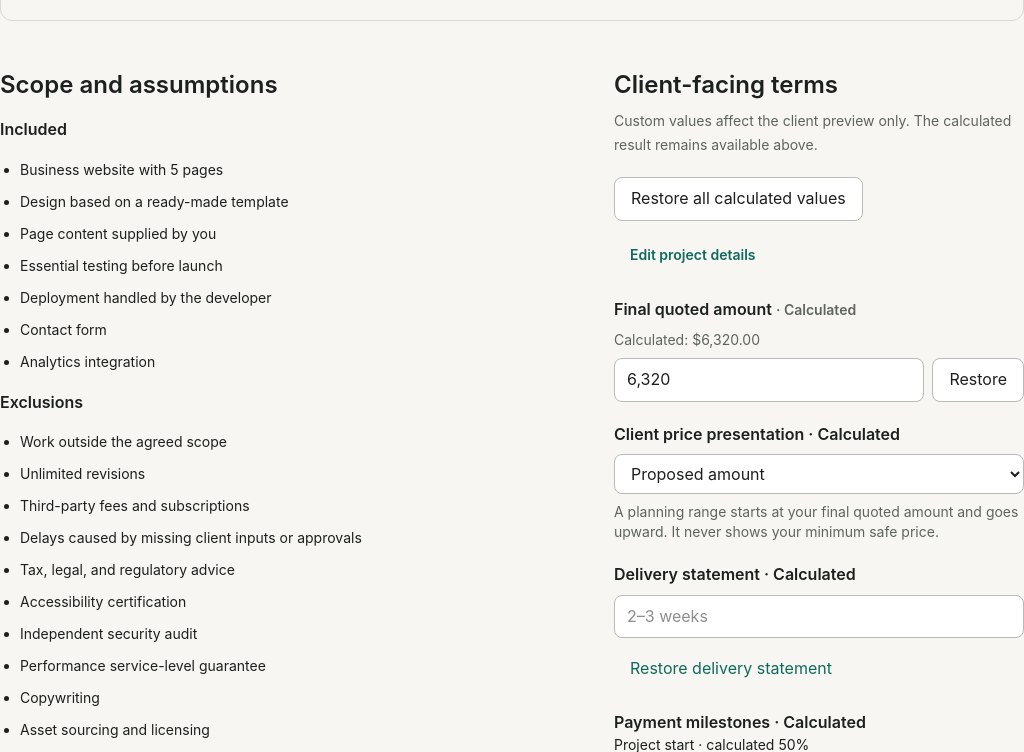
Test case: ResultWorkspace › marks and resets a below-floor quote without blocking the client preview
(page scrolled)
Replace the text in the field labelled "Final quoted amount · Calculated" with "0" at (769, 380), box [614, 358, 924, 402]
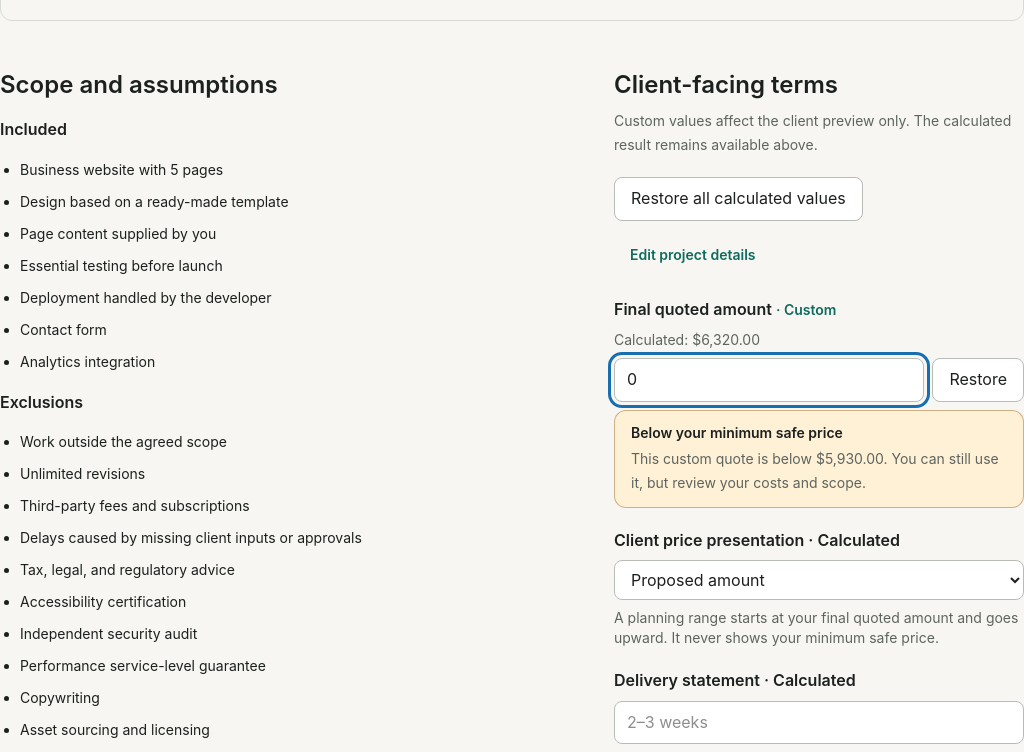
Now the text "Below your minimum safe price" is shown, box [631, 424, 843, 440]
Click the button "Restore".
click(978, 380)  # box [932, 358, 1023, 402]
(page scrolled)
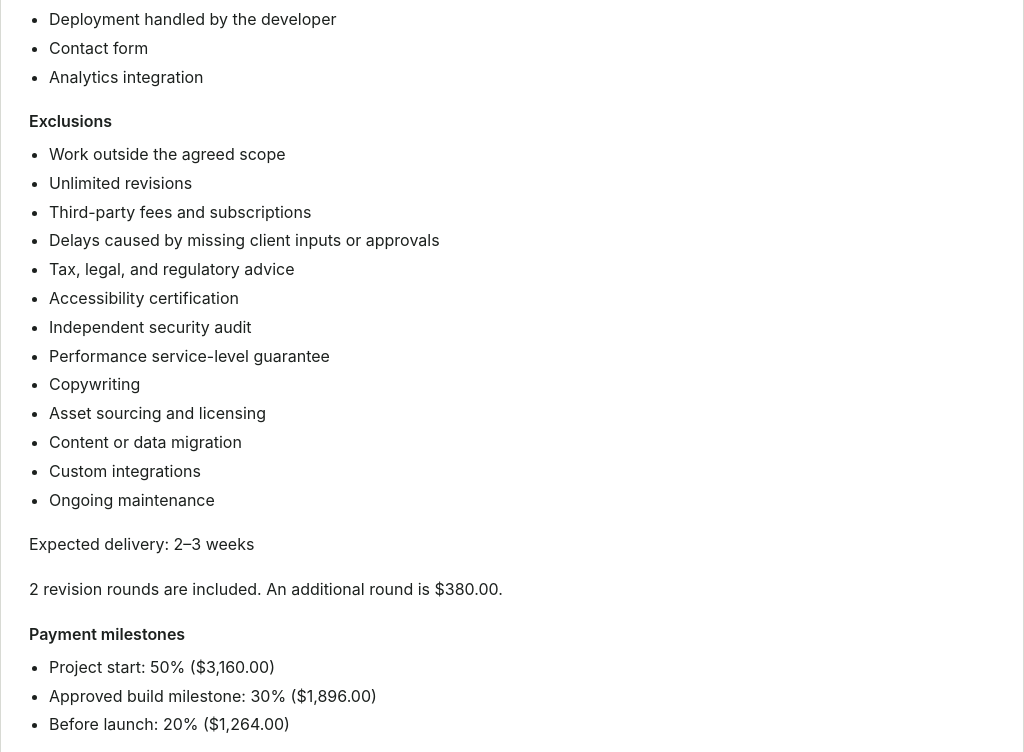
Now the text "Below your minimum safe price" is gone
